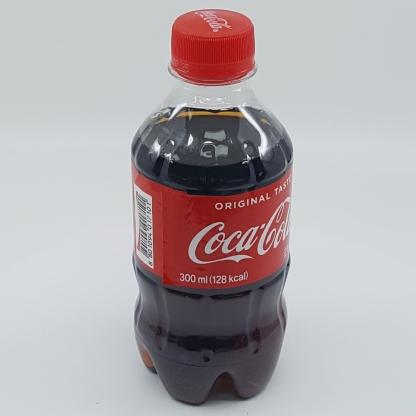--------300ML: (131, 9, 293, 404)
